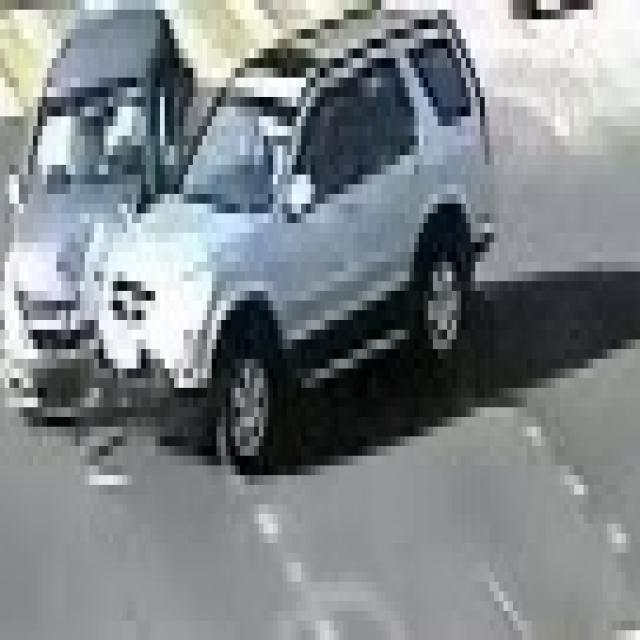accident: (14, 22, 502, 487)
